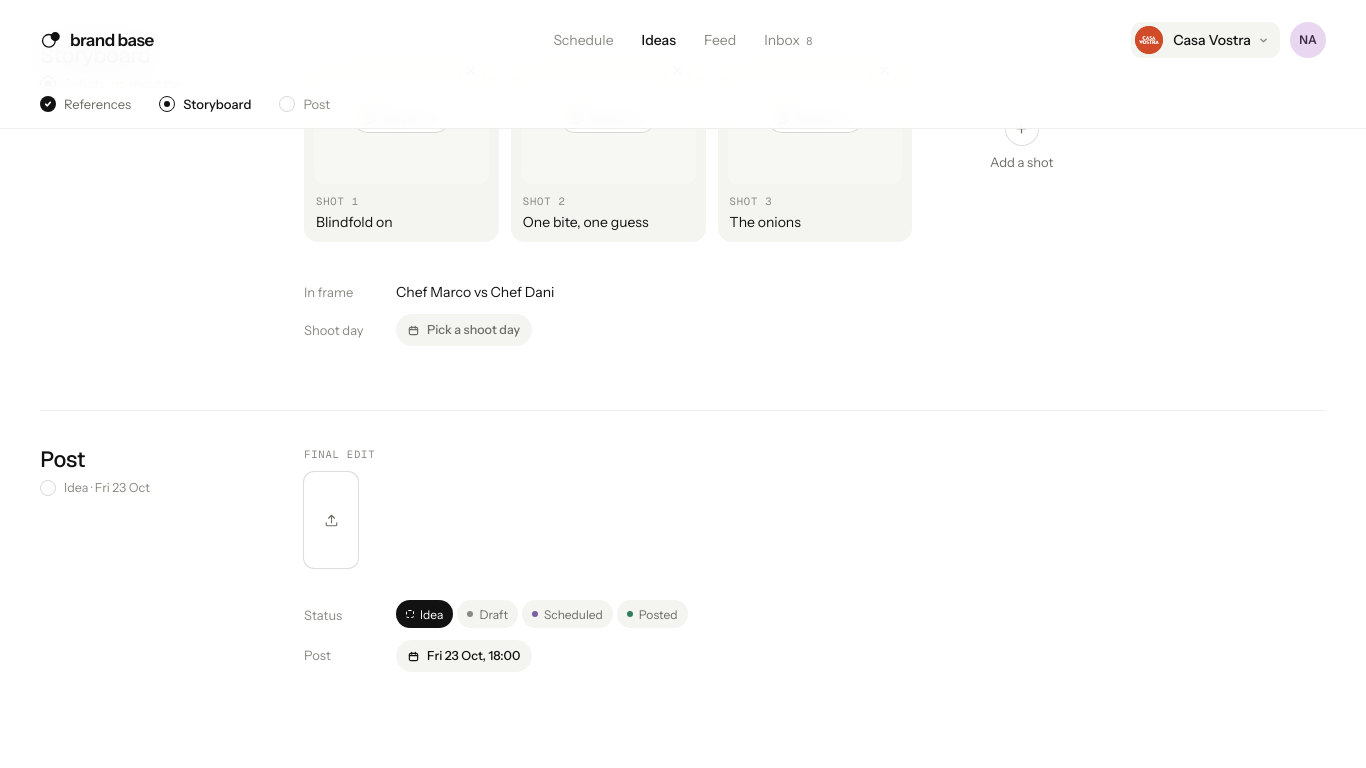
Test: an idea page › moves the idea to the day picked, and a status then makes it a post at that day and time
(page scrolled)
Click the button with aria-label "Post date" at (464, 656), box [396, 640, 532, 672]
(page scrolled)
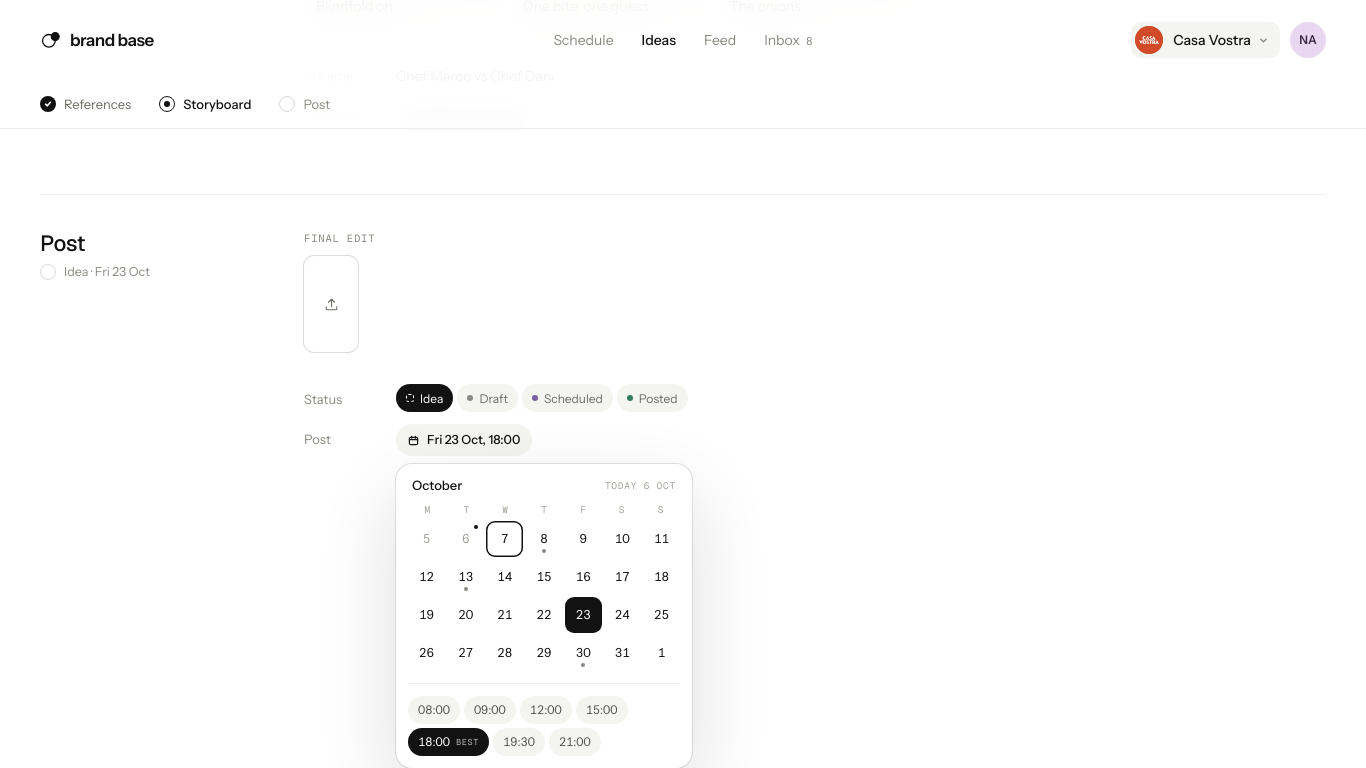
Expected: the button named "Mon 5 Oct" is disabled, [408, 521, 445, 557]
Expected: the button named "Thu 8 Oct, 2 posts" is shown, [525, 521, 562, 557]
# The arrows skip what cannot be picked: left from Wed 7 Oct, the first open day, stays put.
Press ArrowLeft in the button named "Wed 7 Oct", box [486, 521, 523, 557]
Press ArrowRight in the button named "Wed 7 Oct", box [486, 521, 523, 557]
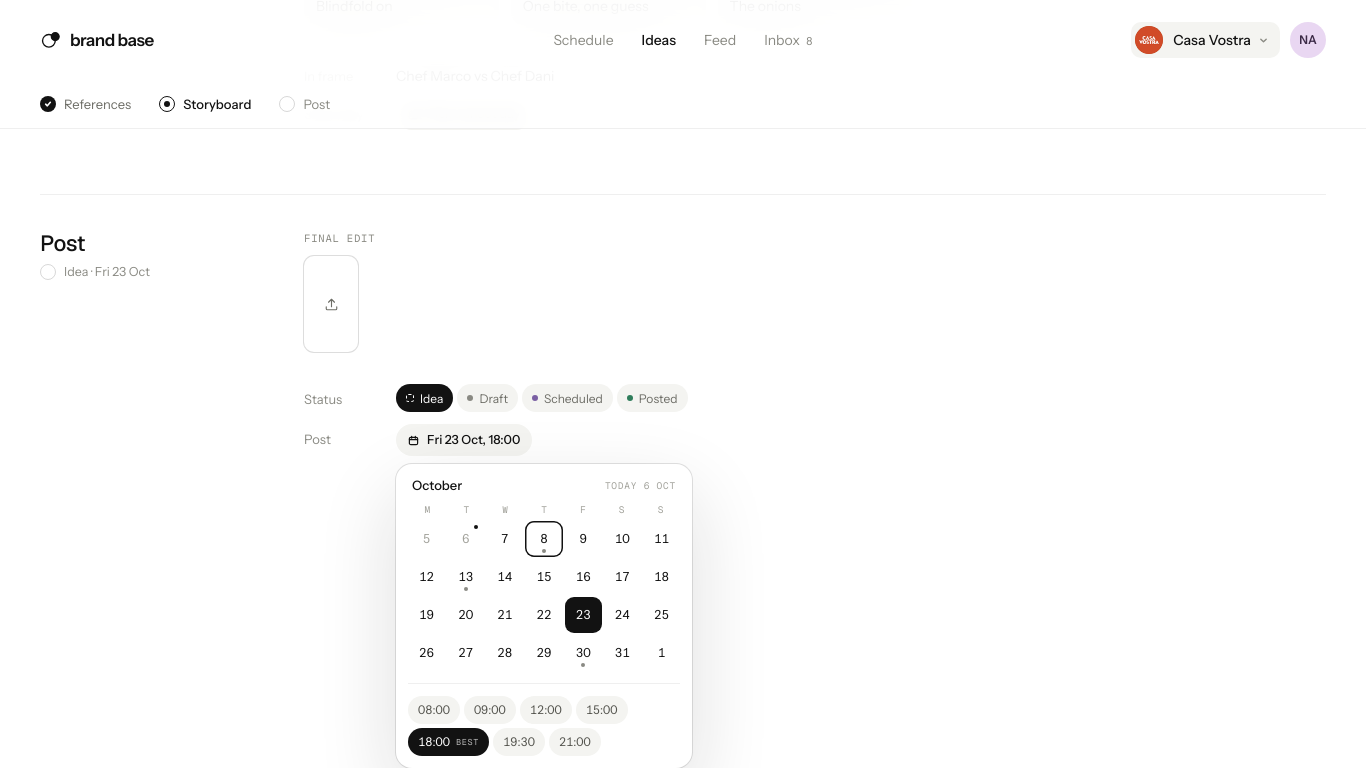
Click the button named "Tue 27 Oct" at (466, 653), box [447, 635, 484, 671]
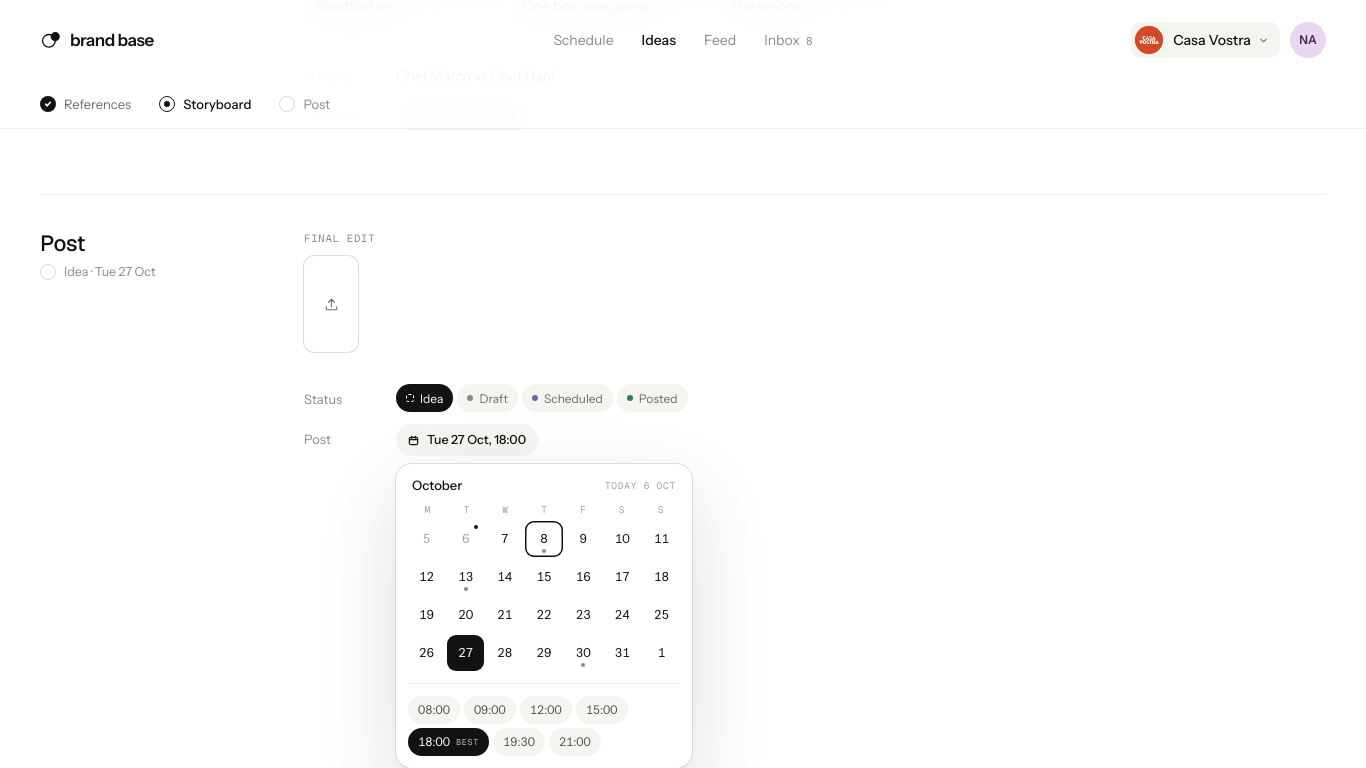
Click the radio button labelled "12:00" at (546, 710), box [520, 696, 572, 724]
(page scrolled)
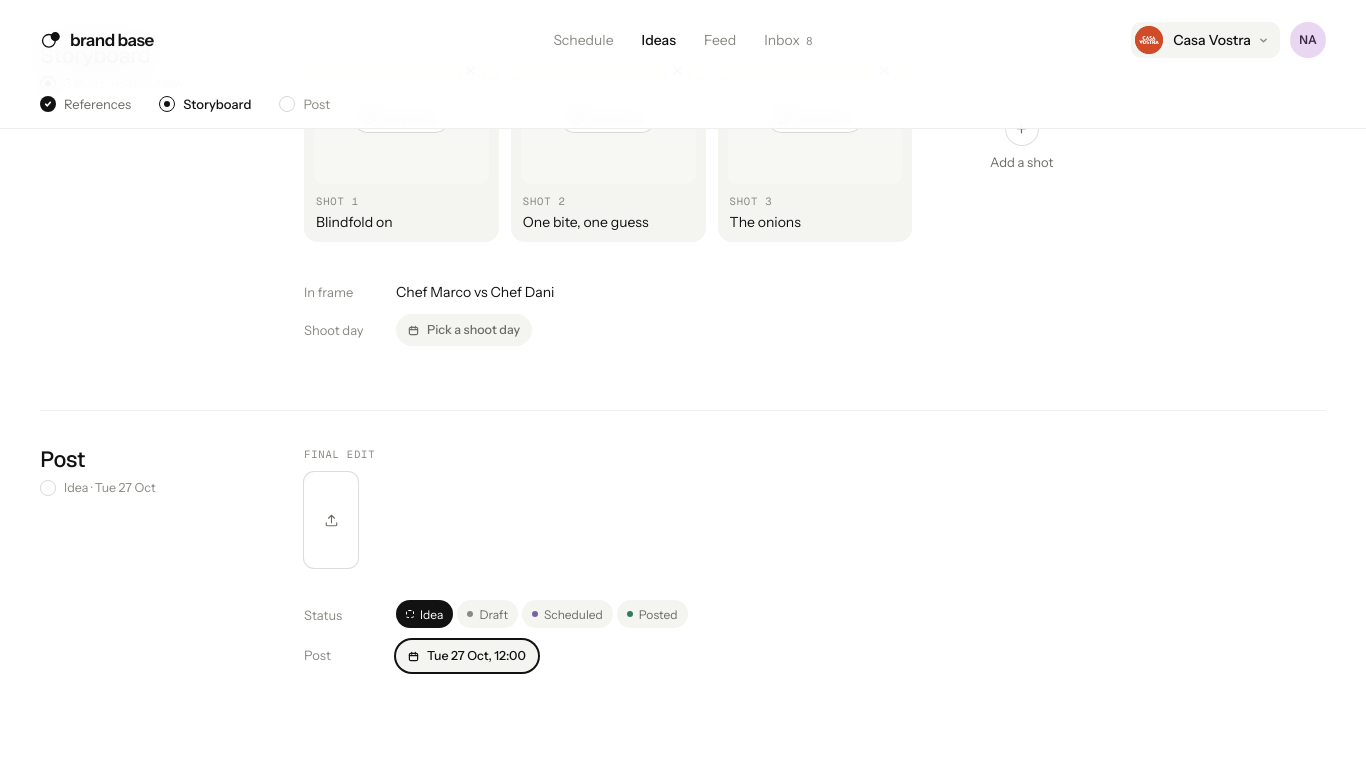
Expected: the radio button labelled "Idea" is checked, [396, 600, 454, 628]
Expected: the button with aria-label "Post date" reads "Tue 27 Oct, 12:00", [396, 640, 538, 672]
# A status makes it a post, on the day and at the time picked.
Click the radio button labelled "Scheduled" at (567, 614), box [522, 600, 613, 628]
(page scrolled)
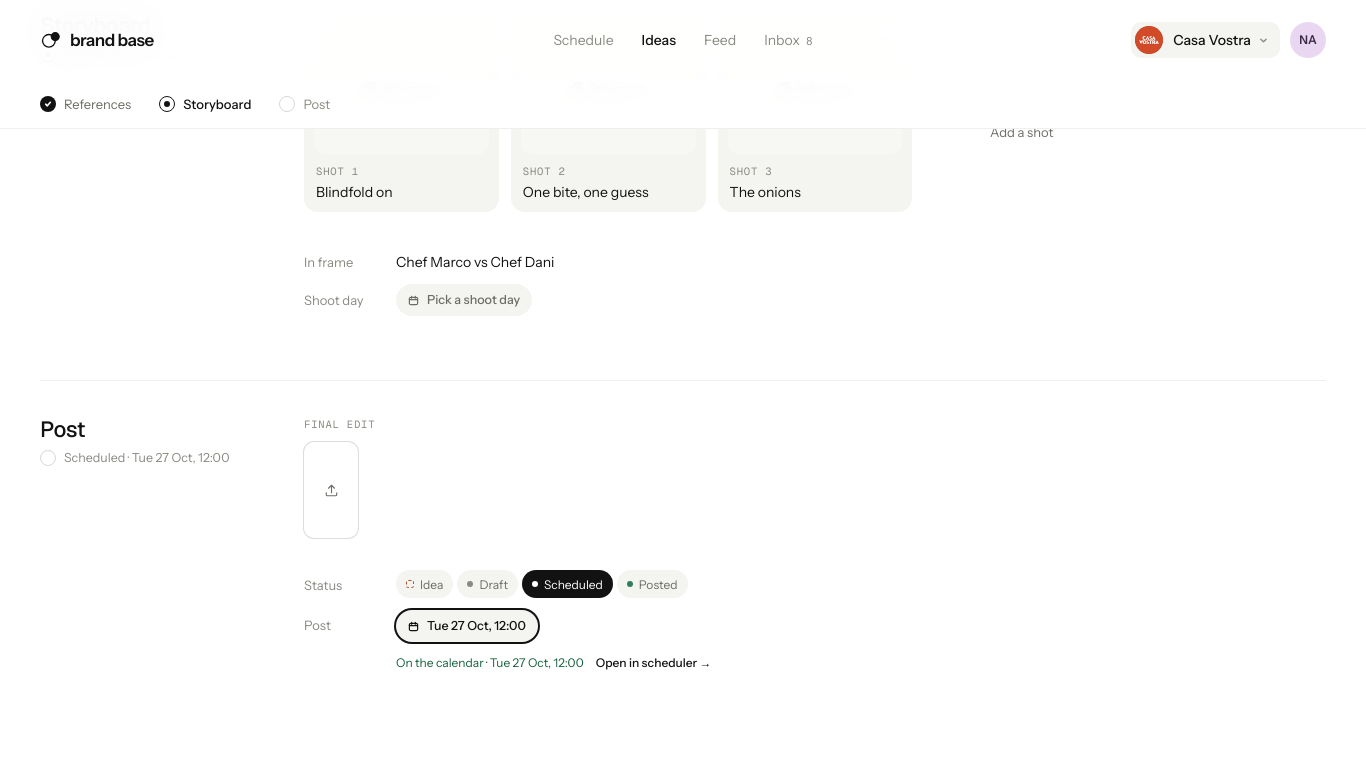
Expected: the link "On the calendar · Tue 27 Oct, 12:00" is shown, [396, 654, 584, 672]
